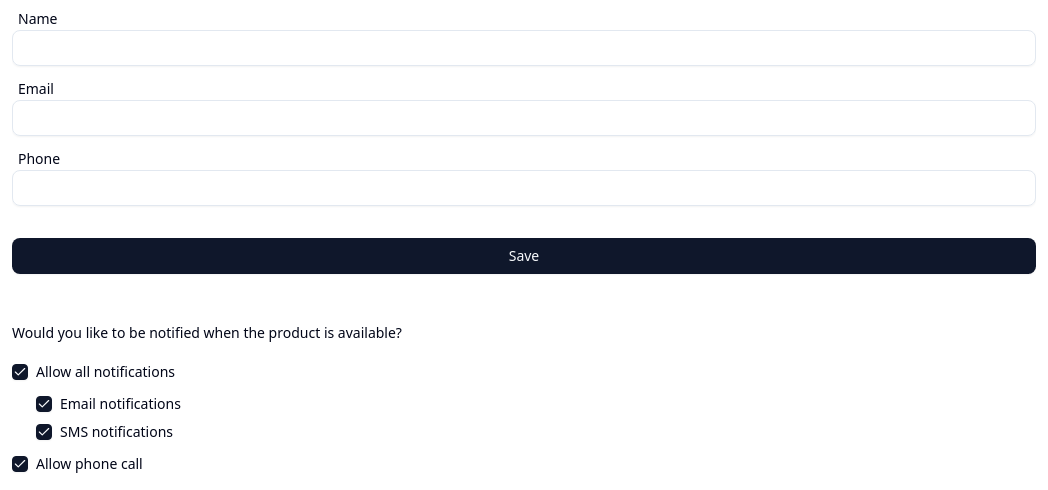
WaitListForm component tests › Permissions checkboxes tests › should uncheck parent checkbox when all children are unchecked
What coordinates should you click on to do the following:
click the checkbox named "email notifications" next to "Email notifications"
I would click on:
 (44, 404)
Its box is [36, 396, 52, 412].
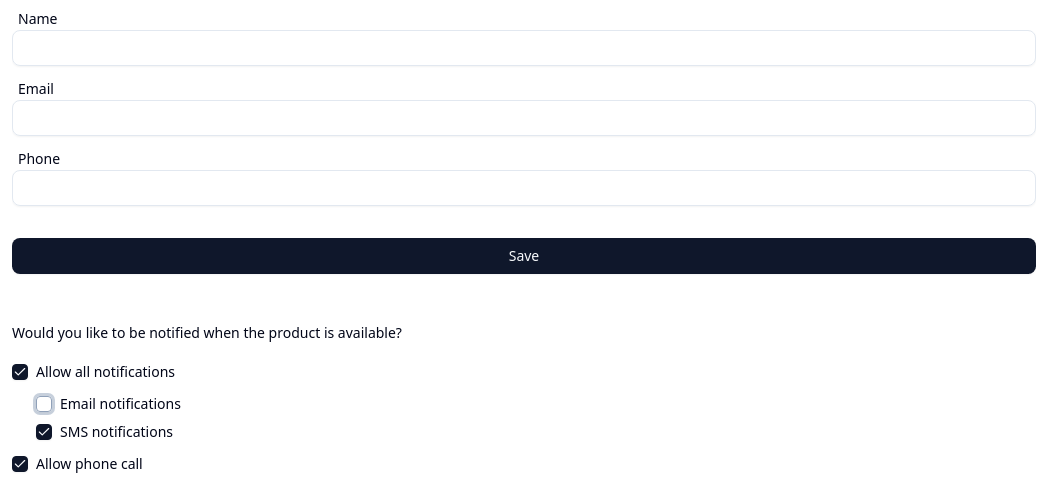
What coordinates should you click on to do the following:
click the checkbox named "sms notifications" next to "SMS notifications"
I would click on:
 (44, 432)
Its box is [36, 424, 52, 440].
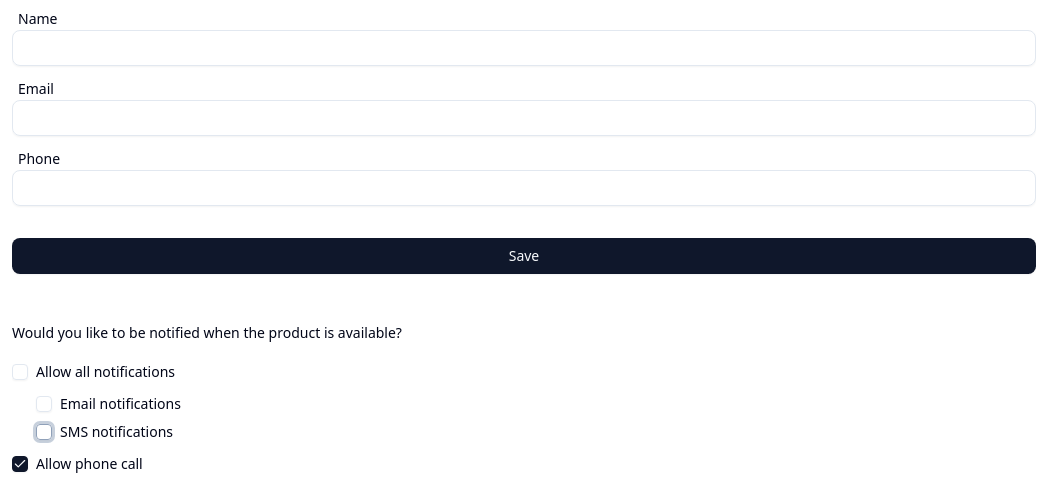
Check: the checkbox named "email notifications" next to "Email notifications" is not checked, box [36, 396, 52, 412]
Check: the checkbox named "sms notifications" next to "SMS notifications" is not checked, box [36, 424, 52, 440]
Check: the checkbox named "All notifications" next to "Allow all notifications" is not checked, box [12, 364, 28, 380]
